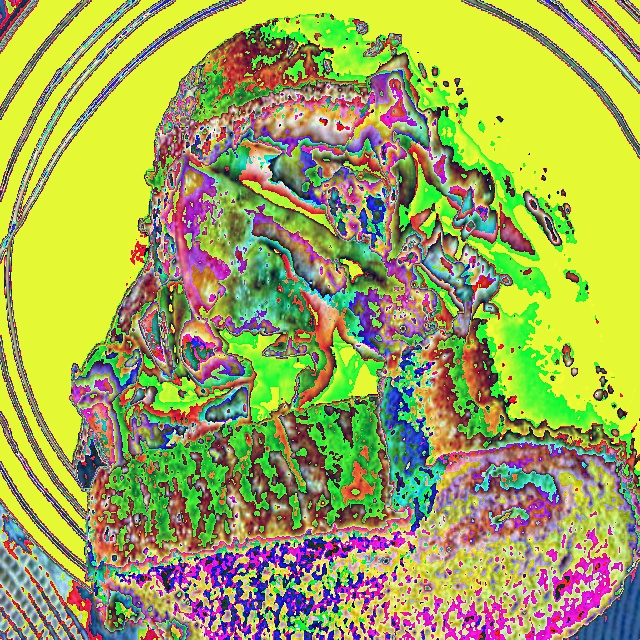background: (70, 12, 639, 639)
